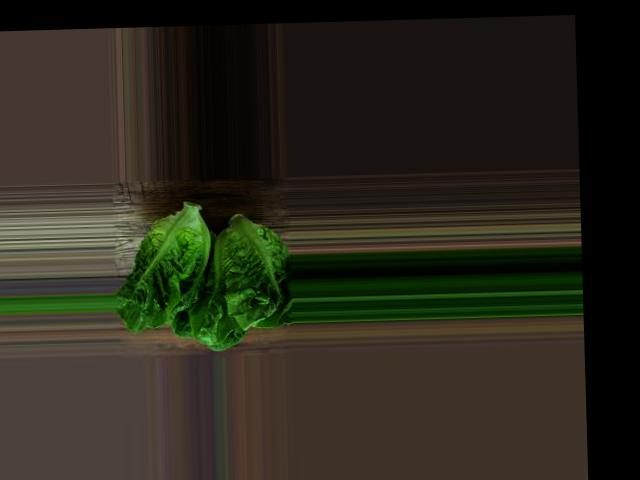lettuce: (130, 215, 291, 344)
